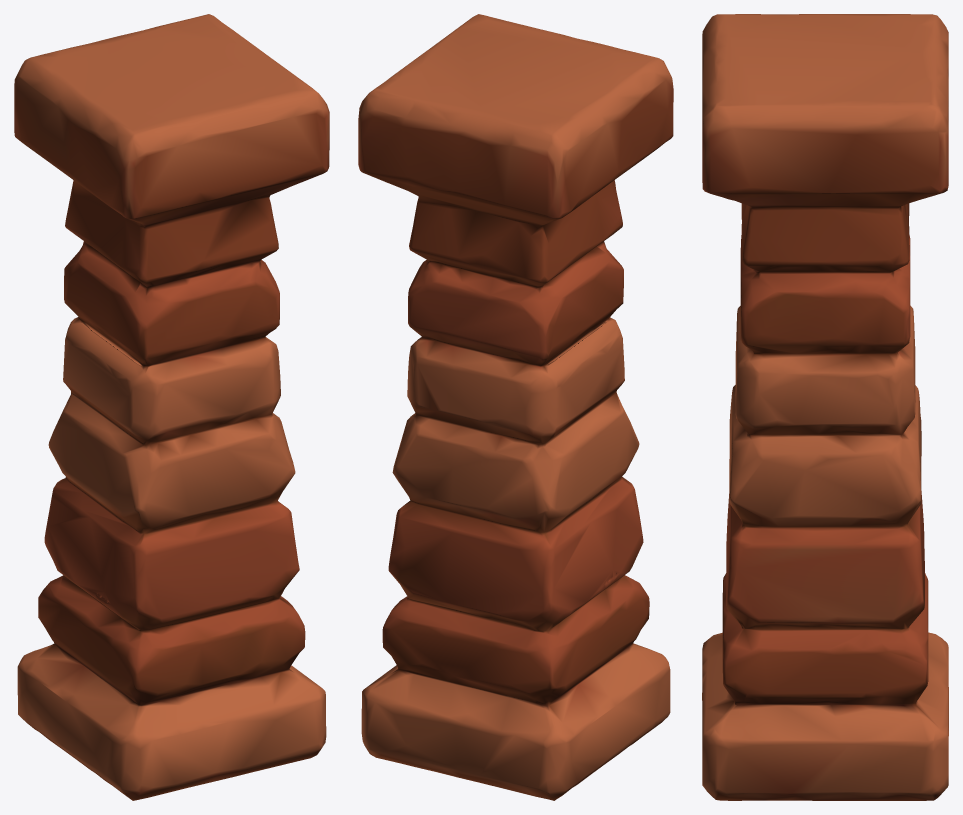
Rendered from gen3d-rock-pillar-lod0.glb.
The picture shows the model from 3 angles, left to right: view 1: azimuth 30°, elevation 25°; view 2: azimuth 150°, elevation 25°; view 3: azimuth 270°, elevation 25°; orthographic projection. The views are drawn at different scales.
Parts seen in each view (by area): view 1: part_0; view 2: part_0; view 3: part_0.
Boxes of the visible parts, <box> form: part_0: <box>14,14,329,800</box>; part_0: <box>358,14,673,800</box>; part_0: <box>702,14,948,800</box>.
Bounding box in the file's own units: 0.3221 × 1 × 0.3214.
